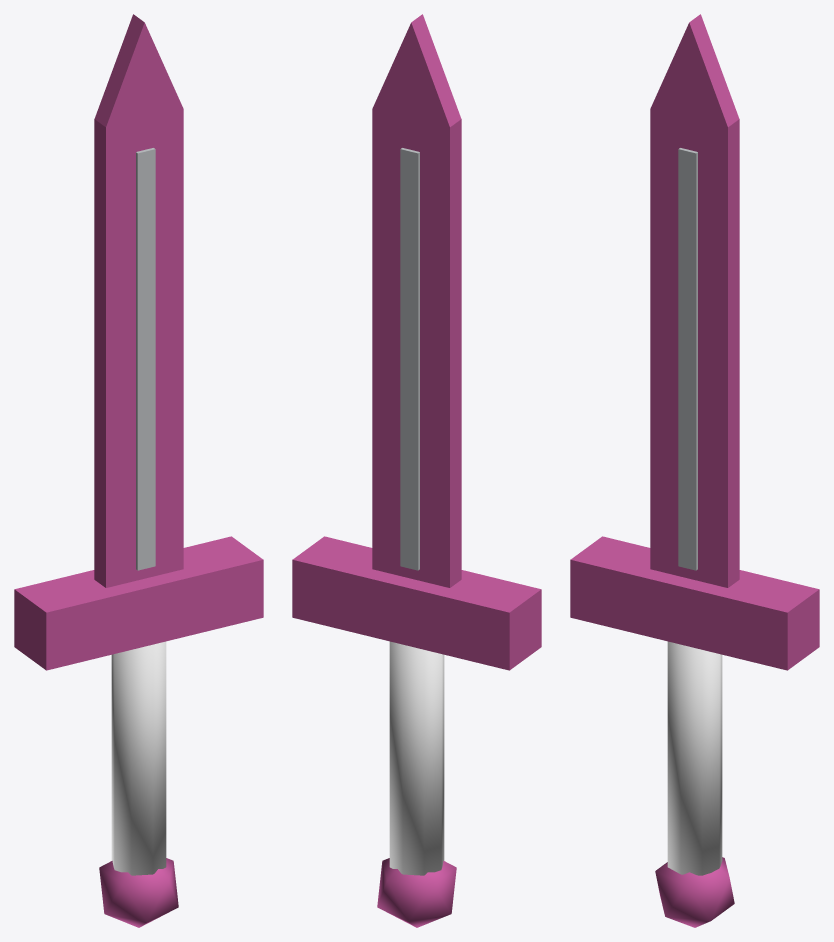
Rendered from orchidite_shortsword.glb.
3 views of the same model, side by side, from view 1: azimuth 30°, elevation 25°; view 2: azimuth 150°, elevation 25°; view 3: azimuth 330°, elevation 25° (orthographic).
Parts seen in each view (by area): view 1: orchidite_shortsword_v0; view 2: orchidite_shortsword_v0; view 3: orchidite_shortsword_v0.
Part boxes in pixels (box(x1,y1,x2,y2)): orchidite_shortsword_v0: box(14, 14, 263, 927); orchidite_shortsword_v0: box(292, 14, 541, 927); orchidite_shortsword_v0: box(570, 14, 819, 927).
Size of the model in its own units: 0.196 by 0.785 by 0.0595.
